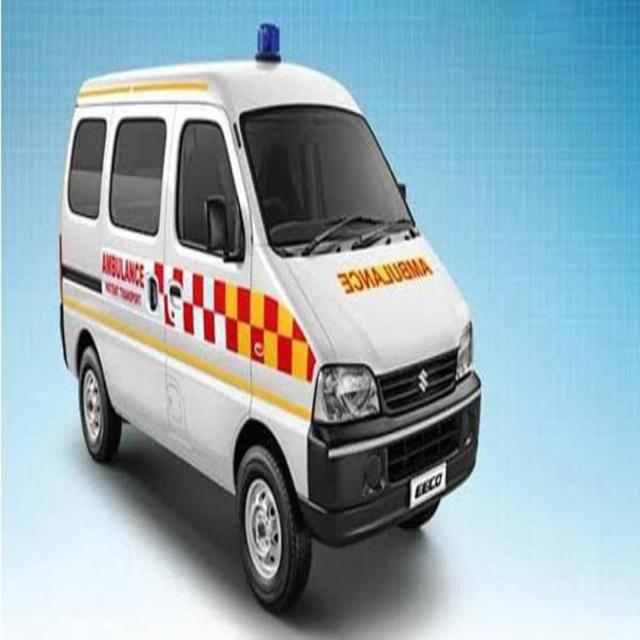ambulance: (59, 21, 461, 623)
